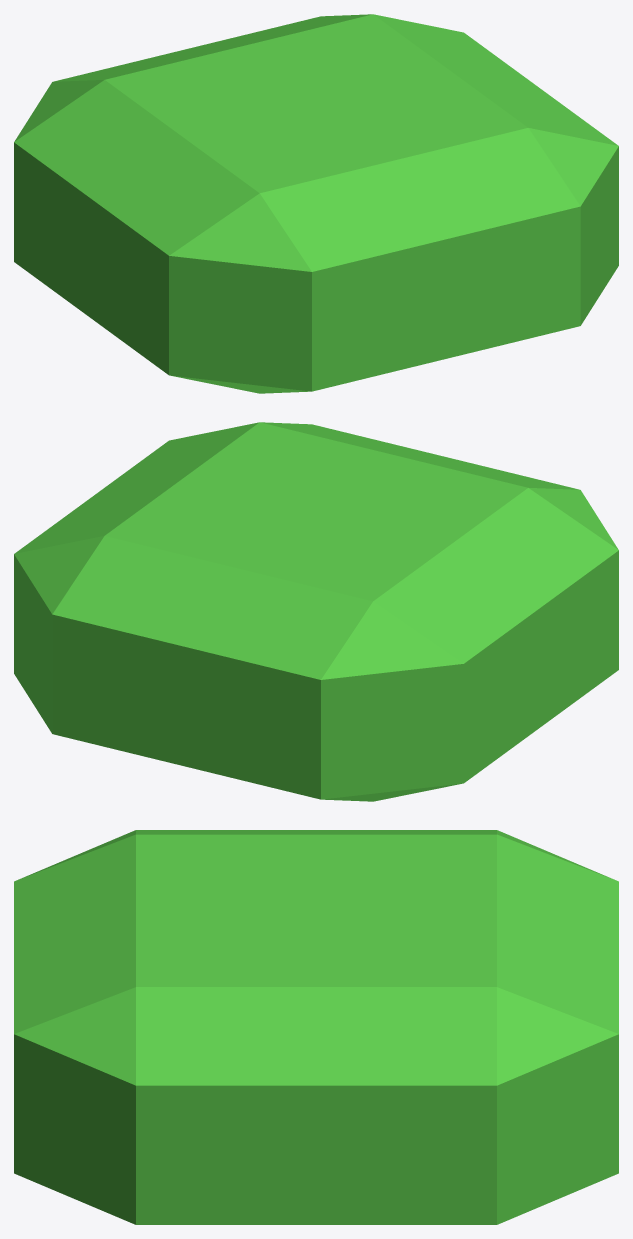
Rendered from Gem_02.glb.
The picture shows the model from 3 angles, top to bottom: view 1: azimuth 30°, elevation 25°; view 2: azimuth 150°, elevation 25°; view 3: azimuth 270°, elevation 25°; orthographic projection. The views are drawn at different scales.
Visible parts, largest first — view 1: Gem_02; view 2: Gem_02; view 3: Gem_02.
Part boxes in pixels (<box>): Gem_02: <box>14,14,618,393</box>; Gem_02: <box>14,422,618,801</box>; Gem_02: <box>14,830,618,1224</box>.
Size of what is drawn, in the model's own units: 0.3427 by 0.1459 by 0.3427.
Materials: 1 (1 with a texture image).
